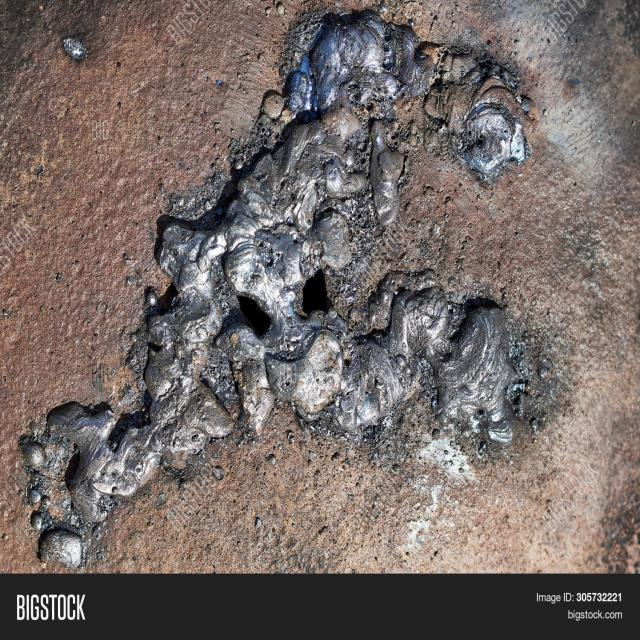Bad Weld: (28, 20, 536, 537)
Defect: (282, 268, 342, 318), (222, 294, 273, 344)
